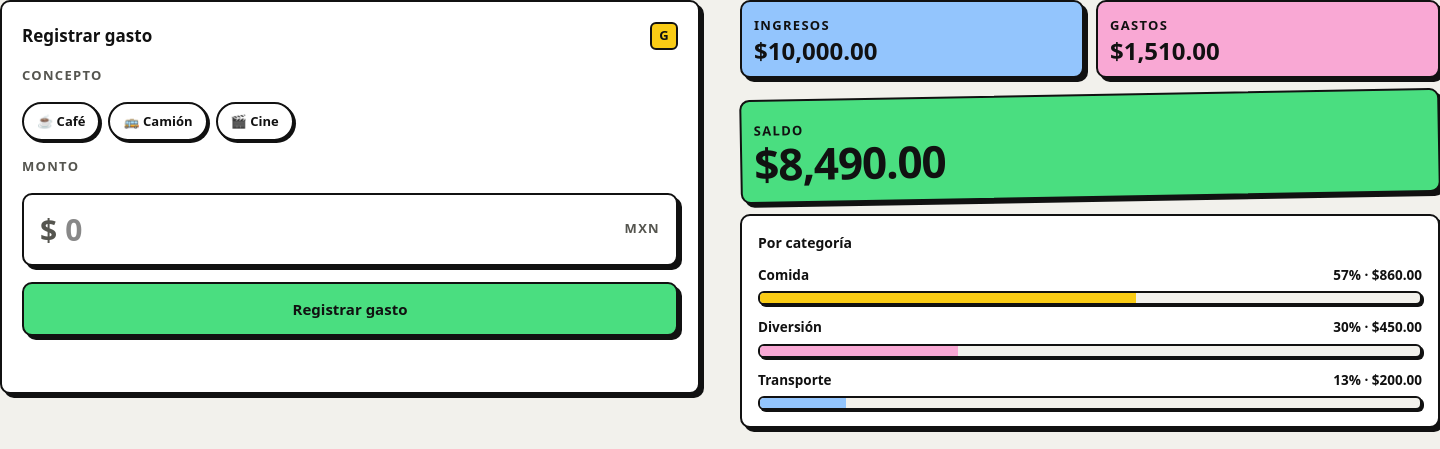
Test: LandingDemo — registrar › respeta el monto que el visitante cambia y lo refleja en la categoría
Click the button "🎬 Cine" at (255, 121), box [216,102,294,141]
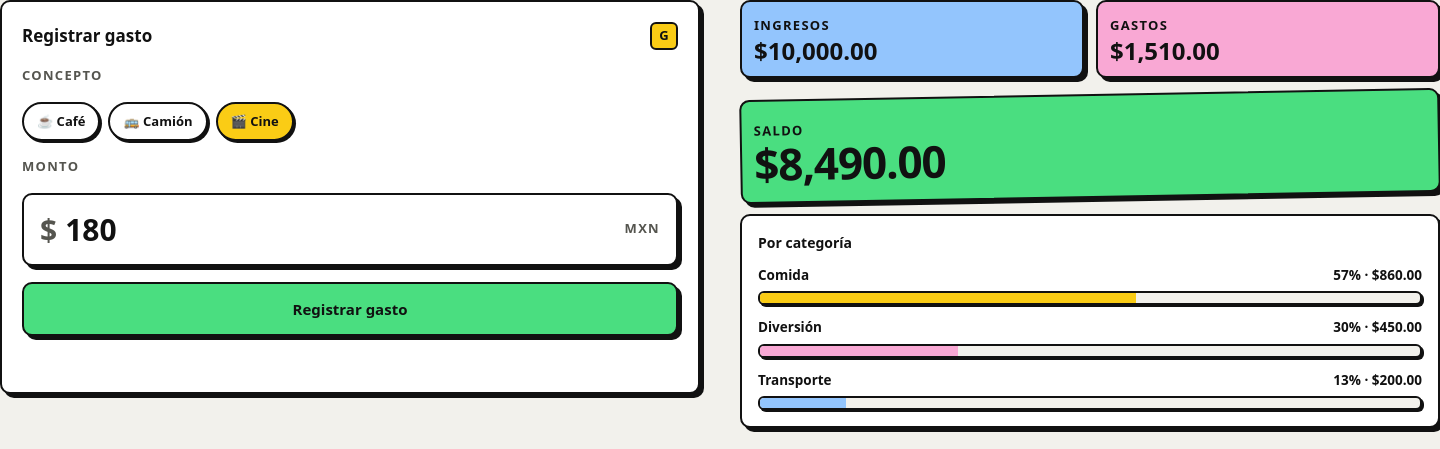
Replace the text in the field named "Monto" with "300" at (341, 229), box [65,206,617,252]
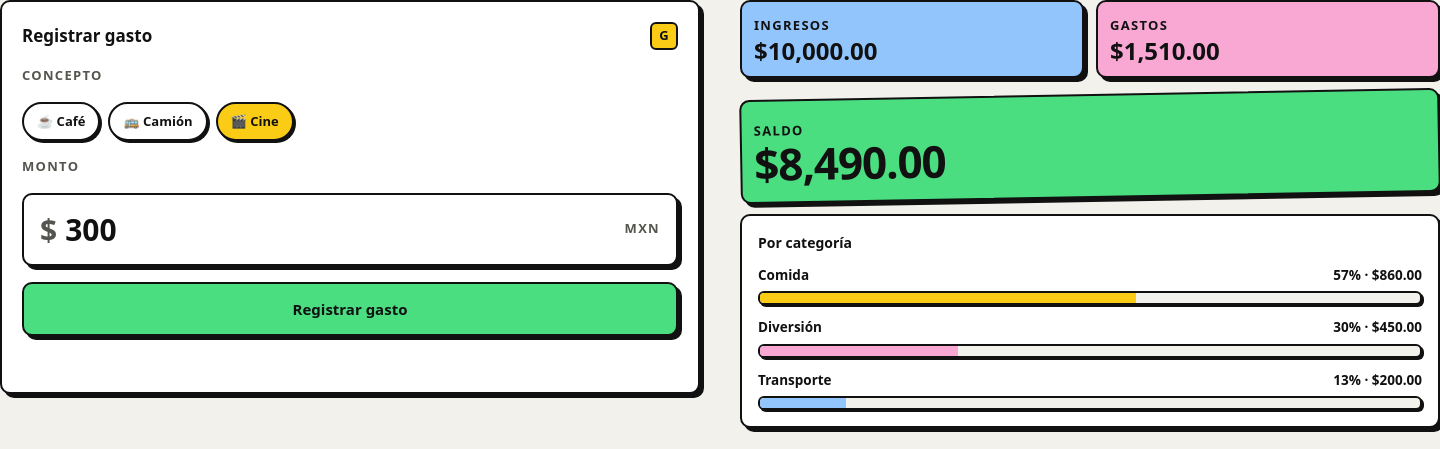
Click the button "Registrar gasto" at (350, 309), box [22,282,678,336]
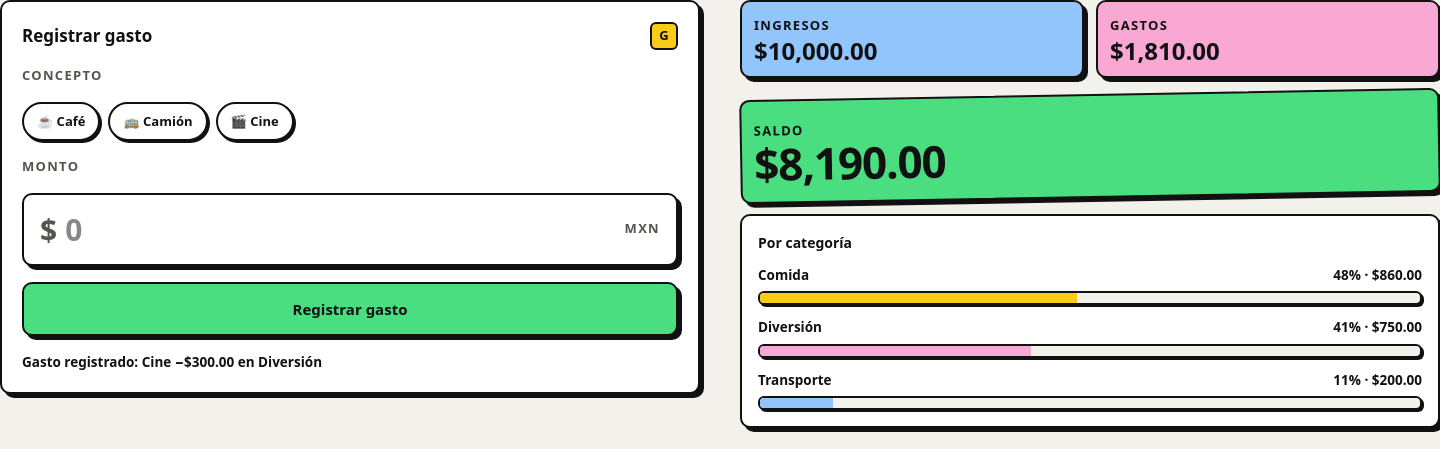
Check: the text "Gastos" shows "1,810", box [1110,34,1220,67]
Check: the text "Diversión" shows "$750", box [1372,318,1422,336]
